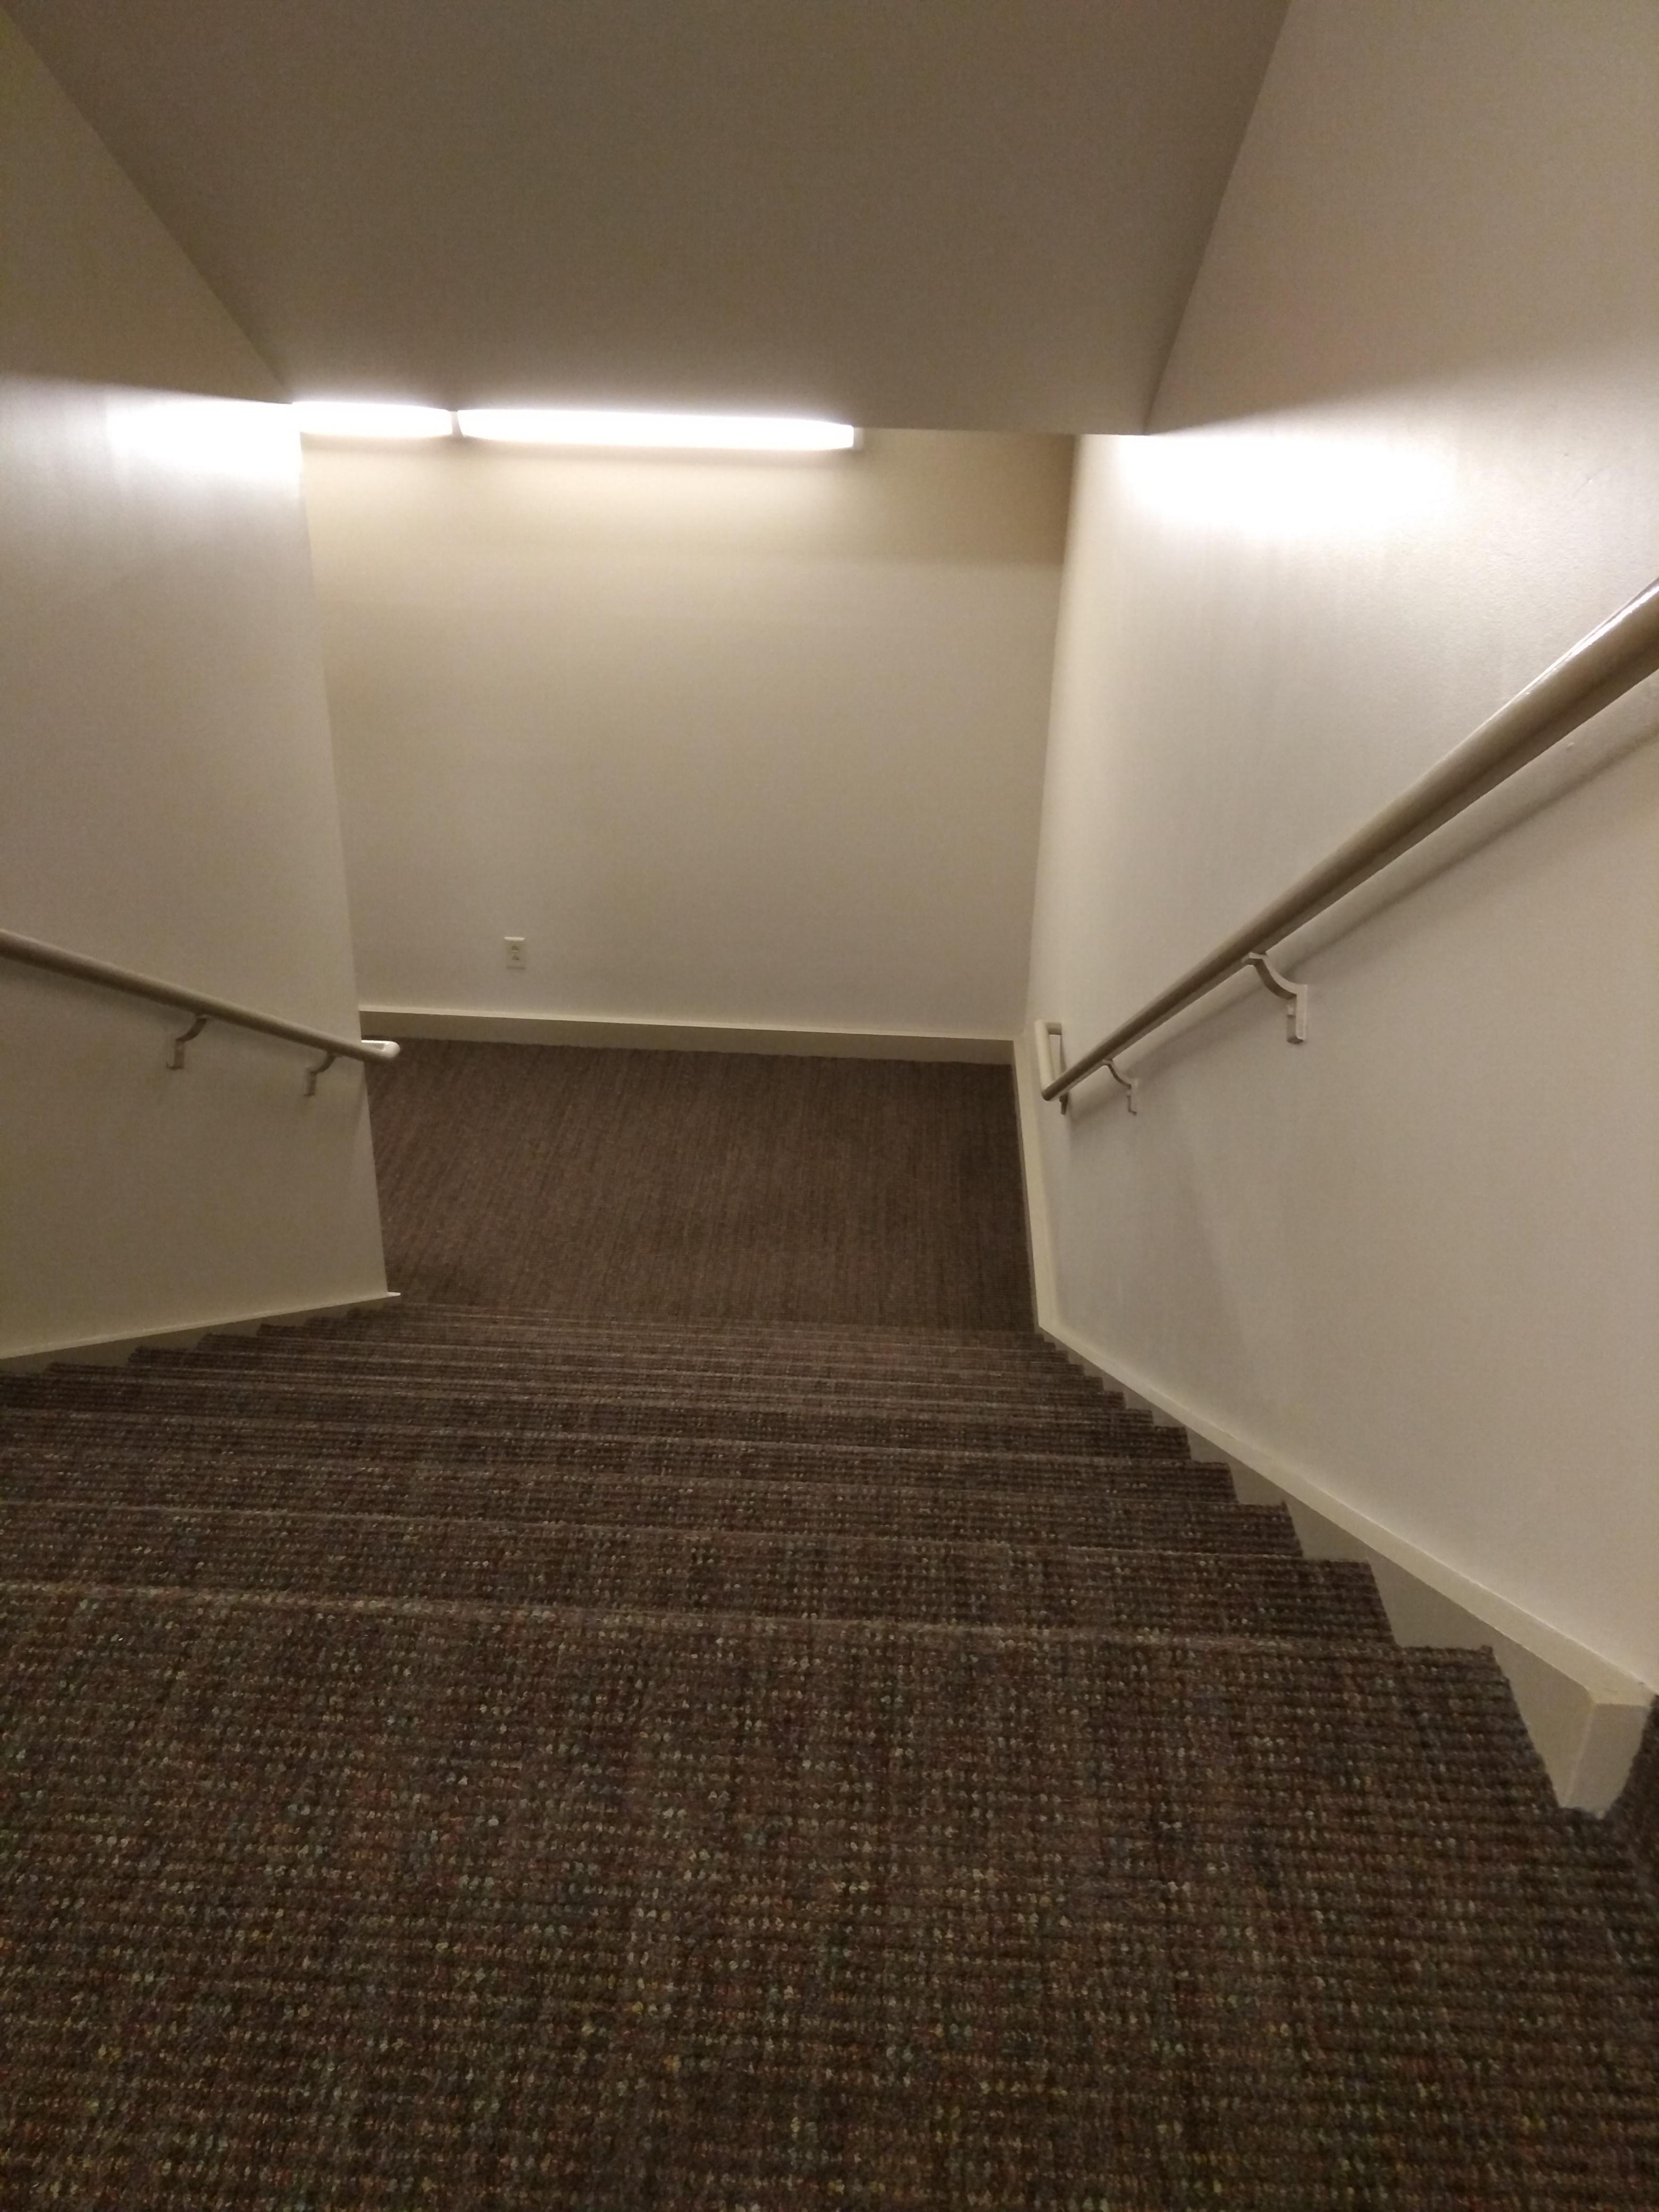stairs_down: (0, 1230, 1511, 1689)
